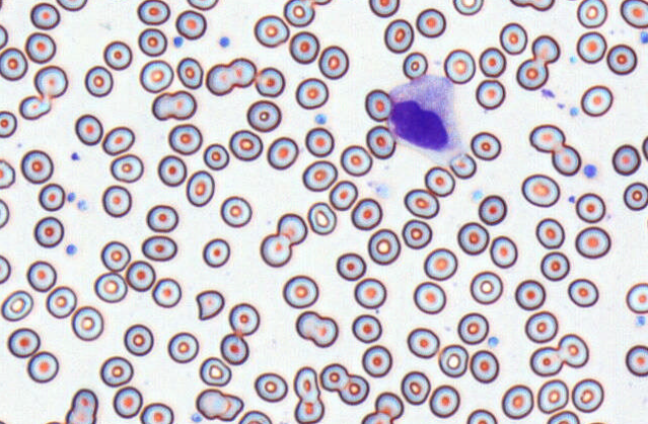MONO: (379, 72, 467, 166)
PLT: (581, 161, 598, 179), (65, 243, 80, 257), (172, 35, 185, 49), (77, 199, 90, 213), (634, 314, 648, 327), (487, 336, 500, 349), (219, 34, 231, 48), (65, 190, 77, 204), (314, 113, 328, 125), (567, 106, 580, 118), (640, 30, 648, 44)
RBC: (205, 57, 256, 96), (295, 310, 338, 347), (151, 89, 196, 120), (521, 173, 560, 207), (282, 274, 319, 308), (367, 228, 400, 265), (574, 225, 611, 258), (253, 14, 289, 47), (139, 59, 173, 93), (469, 270, 503, 304), (65, 388, 98, 423), (33, 65, 68, 98), (246, 99, 281, 132), (501, 384, 534, 419), (71, 305, 103, 341), (443, 48, 475, 84), (423, 247, 457, 280), (524, 310, 558, 343), (20, 149, 53, 183), (571, 378, 604, 412), (302, 159, 337, 191), (26, 350, 59, 383), (413, 281, 446, 314), (580, 84, 613, 117), (259, 233, 291, 267), (99, 355, 133, 387), (168, 123, 202, 155), (229, 129, 263, 161), (457, 221, 489, 255), (537, 379, 569, 413), (266, 136, 298, 170), (383, 18, 414, 53), (185, 170, 215, 206), (403, 188, 439, 218), (0, 289, 33, 321), (350, 197, 382, 230), (353, 277, 386, 309), (295, 77, 328, 109), (195, 388, 229, 419), (228, 302, 259, 336), (93, 272, 127, 303), (557, 333, 588, 367), (429, 384, 460, 418), (365, 125, 396, 159), (318, 45, 349, 79), (437, 343, 468, 377), (253, 372, 288, 402), (400, 370, 430, 405), (529, 124, 565, 153), (516, 58, 548, 90), (340, 144, 372, 176), (24, 31, 56, 63), (167, 331, 199, 363), (220, 195, 252, 227), (276, 212, 307, 245), (7, 327, 40, 358), (361, 344, 392, 377), (406, 327, 439, 358), (45, 285, 76, 318), (101, 184, 132, 217), (529, 346, 563, 376), (289, 30, 319, 64), (469, 349, 499, 383), (338, 373, 369, 405), (112, 386, 143, 418), (606, 43, 637, 75), (457, 312, 488, 344), (551, 143, 581, 176), (123, 323, 153, 356), (307, 201, 336, 235), (109, 153, 143, 182), (141, 234, 177, 261), (254, 66, 285, 97), (424, 165, 455, 196), (401, 218, 432, 249), (33, 216, 64, 247), (514, 279, 545, 310), (199, 356, 231, 386), (125, 259, 155, 291), (100, 240, 130, 272), (576, 31, 606, 63), (26, 260, 56, 292), (535, 217, 565, 249), (102, 126, 135, 155), (0, 47, 28, 81), (293, 366, 320, 401), (151, 277, 181, 308), (351, 313, 382, 343), (175, 9, 206, 39), (304, 126, 334, 157), (575, 192, 605, 223), (611, 144, 641, 175), (220, 333, 249, 365), (157, 154, 186, 186), (74, 113, 103, 145), (84, 65, 113, 97), (364, 88, 392, 121), (489, 235, 517, 268), (319, 362, 349, 392), (540, 251, 570, 281), (475, 79, 505, 109), (335, 252, 366, 281), (415, 8, 446, 37), (478, 194, 507, 225), (567, 278, 598, 307), (470, 131, 501, 160), (499, 22, 527, 54), (146, 204, 178, 232), (137, 27, 167, 56), (103, 40, 132, 70), (329, 179, 357, 210), (576, 0, 607, 28), (478, 46, 506, 77), (283, 0, 315, 27), (176, 57, 203, 89), (18, 94, 51, 120), (136, 0, 170, 25), (374, 391, 403, 420), (531, 34, 560, 63), (202, 237, 230, 267), (30, 2, 60, 29), (293, 397, 324, 423), (38, 182, 65, 211), (216, 393, 243, 421), (620, 0, 647, 28), (139, 402, 174, 423), (449, 152, 476, 179), (623, 181, 647, 211), (625, 282, 647, 314), (625, 344, 647, 376), (203, 143, 229, 170), (402, 51, 427, 79), (368, 0, 399, 17), (238, 409, 272, 423), (0, 158, 15, 189), (452, 0, 483, 15), (466, 408, 497, 423), (0, 110, 17, 137), (546, 410, 579, 423), (361, 411, 391, 423), (56, 0, 87, 11), (186, 0, 218, 10), (0, 254, 11, 283), (0, 198, 9, 228), (530, 0, 554, 11), (0, 23, 8, 49), (641, 135, 647, 160), (312, 0, 332, 5), (43, 420, 63, 424)
Schistocyte: (195, 289, 226, 321)
